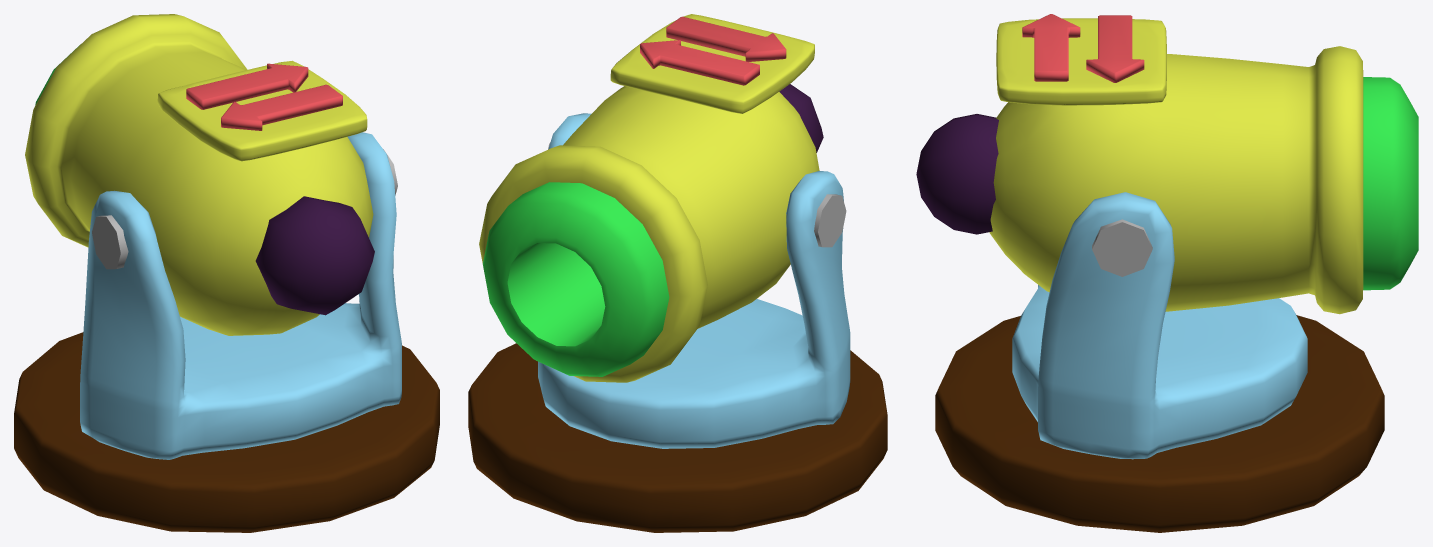
File: canon_3.fbx
The picture shows the model from 3 angles, left to right: view 1: azimuth 30°, elevation 25°; view 2: azimuth 150°, elevation 25°; view 3: azimuth 270°, elevation 25°; orthographic projection. The views are drawn at different scales.
Parts seen in each view (by area): view 1: Sphere.004, Cylinder.007, Cylinder.009, Sphere.005, Cube.001, Cube.006, Cylinder.008; view 2: Sphere.004, Cylinder.009, Cylinder.007, Cylinder.006, Cube.006, Cube.001, Cylinder.008, Sphere.005; view 3: Sphere.004, Cylinder.007, Cylinder.009, Cylinder.006, Sphere.005, Cylinder.008, Cube.001, Cube.006.
Part boxes in pixels (x1,y1,x2,y2): Sphere.004: (25, 14, 373, 335); Cylinder.007: (80, 132, 401, 459); Cylinder.009: (14, 332, 439, 532); Sphere.005: (255, 196, 374, 315); Cube.001: (186, 63, 308, 109); Cube.006: (221, 84, 342, 130); Cylinder.008: (92, 149, 397, 269); Sphere.004: (479, 14, 819, 382); Cylinder.009: (468, 343, 887, 532); Cylinder.007: (538, 113, 850, 448); Cylinder.006: (482, 182, 669, 376); Cube.006: (666, 16, 786, 61); Cube.001: (640, 40, 759, 85); Cylinder.008: (548, 142, 846, 247); Sphere.005: (779, 84, 823, 152); Sphere.004: (989, 18, 1363, 314); Cylinder.007: (1012, 192, 1307, 459); Cylinder.009: (935, 315, 1384, 532); Cylinder.006: (1363, 77, 1418, 290); Sphere.005: (916, 114, 998, 234); Cylinder.008: (1092, 219, 1152, 276); Cube.001: (1086, 15, 1144, 82); Cube.006: (1022, 14, 1080, 81).
Bounding box in the file's own units: 378 × 372 × 422.
